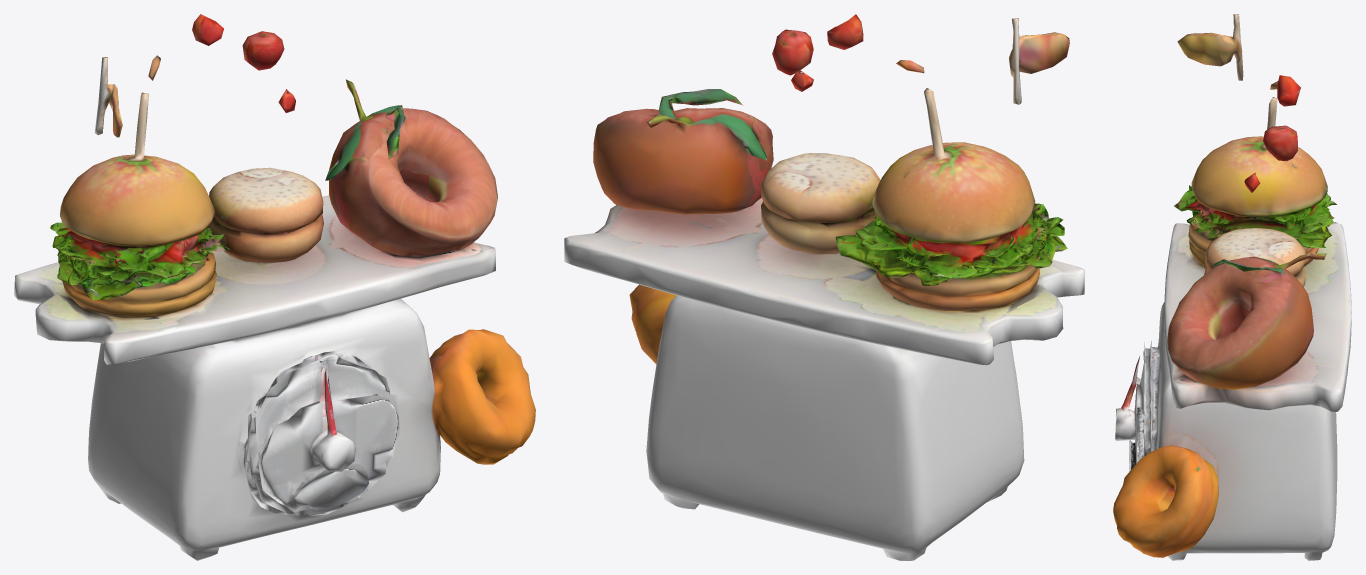
File: create_the_foos_scale_0422080039_texture.glb
3 renders of one model, left to right at view 1: azimuth 30°, elevation 25°; view 2: azimuth 150°, elevation 25°; view 3: azimuth 270°, elevation 25°, orthographic. The views are drawn at different scales.
Size of the model in its own units: 1.88 by 2 by 1.
1 material, 1 textured.
